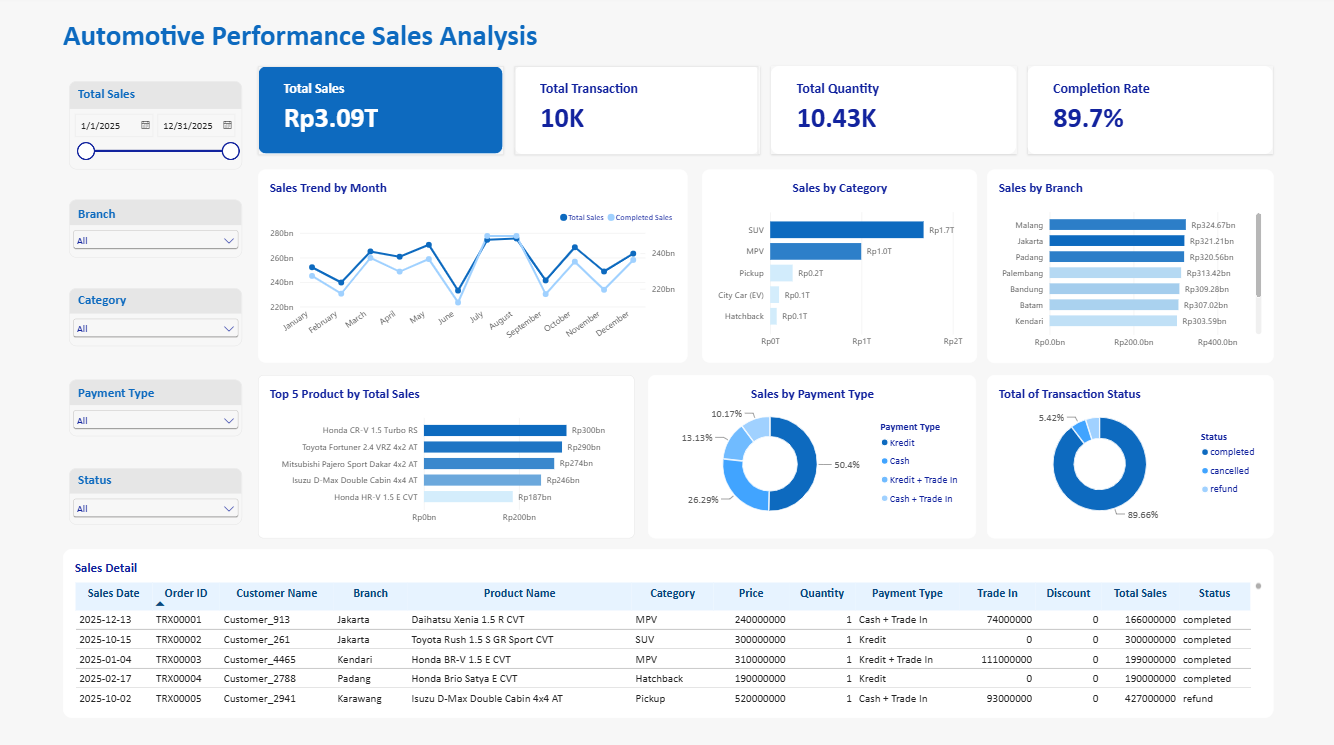

The dashboard page shown, as its layout file describes it:
{"tool":"powerbi","page":{"name":"Page 1","canvas":[1920,1080],"ordinal":0},"visuals":[{"type":"donutChart","title":"Total of Transaction Status","fields":{"Category":["Sheet1.status"],"Y":["CountNonNull(Sheet1.order_id)"]},"box":[1418.2,545.9,410.4,234.2],"z":1000},{"type":"donutChart","title":"Sales by Payment Type","fields":{"Category":["Sheet1.payment_type"],"Y":["Sum(Sheet1.total_sales)"]},"box":[933.1,545.3,470,233.8],"z":2000},{"type":"clusteredBarChart","title":"Top 5 Product by Total Sales","fields":{"Category":["Sheet1.product_name"],"Y":["Sum(Sheet1.total_sales)"]},"box":[374.8,545.3,539.2,233.8],"z":3000},{"type":"lineChart","title":"Sales Trend by Month","fields":{"Category":["Date Table.Date.Variation.Date Hierarchy.Month"],"Y":["Sheet1.Total Sales"],"Y2":["Sheet1.Completed Sales"]},"box":[374.8,251.8,615.6,276.8],"z":4000},{"type":"clusteredBarChart","title":"Sales by Category","fields":{"Category":["Sheet1.category"],"Y":["Sum(Sheet1.total_sales)"]},"box":[1009.4,251.8,393.7,276.8],"z":5000},{"type":"clusteredBarChart","title":"Sales by Branch","fields":{"Category":["Sheet1.branch"],"Y":["Sum(Sheet1.total_sales)"]},"box":[1418.2,251.5,410.4,277.2],"z":6000},{"type":"slicer","title":" ","fields":{"Values":["Sheet1.sales_date"]},"box":[102.6,124.1,248.1,126.5],"z":7000},{"type":"slicer","title":" ","fields":{"Values":["Sheet1.payment_type"]},"box":[102.8,552.5,248.1,81.1],"z":8000},{"type":"slicer","title":" ","fields":{"Values":["Sheet1.category"]},"box":[102.8,421.2,248.1,83.5],"z":9000},{"type":"slicer","title":" ","fields":{"Values":["Sheet1.branch"]},"box":[102.8,294.8,248.1,83.5],"z":10000},{"type":"slicer","title":" ","fields":{"Values":["Sheet1.status"]},"box":[102.8,678.9,248.1,81.1],"z":11000},{"type":"tableEx","title":"Sales Detail","fields":{"Values":["Sheet1.sales_date","Sheet1.order_id","Sheet1.customer_name","Sheet1.branch","Sheet1.product_name","Sheet1.category","Sheet1.price","Sheet1.quantity","Sheet1.payment_type","Sheet1.trade_in","Sheet1.discount","Sheet1.total_sales"]},"box":[95.1,795.4,1734,242],"z":12000},{"type":"group","id":"g1","title":"Group 1","box":[1476.5,102.7,351.7,126.7],"z":13000},{"type":"cardVisual","title":"   Completion Rate","fields":{"Data":["Sheet1.Completion Rate"]},"box":[1476.5,102.7,351.7,126.7],"z":14000,"group":"g1"},{"type":"cardVisual","title":"   Completion Rate","fields":{"Data":["Sheet1.Total Transaction"]},"box":[740.6,103.1,351.7,126.7],"z":14000,"group":"g3"},{"type":"cardVisual","title":"   Completion Rate","fields":{"Data":["Sheet1.Total Quantity"]},"box":[1108.1,103.1,351.7,126.7],"z":14000,"group":"g2"},{"type":"group","id":"g2","title":"Group 1","box":[1108.1,103.1,351.2,127.5],"z":14000},{"type":"cardVisual","title":"   Completion Rate","fields":{"Data":["Sheet1.Total Sales"]},"box":[374.8,103.9,351.7,126.7],"z":14000,"group":"g4"},{"type":"group","id":"g3","title":"Group 1","box":[740.6,103.1,351.2,126.2],"z":15000},{"type":"textbox","title":"Total Sales","box":[117.1,130.1,238.6,28.6],"z":16000},{"type":"group","id":"g4","title":"Group 1","box":[374.8,103.9,353.1,126.5],"z":17000},{"type":"textbox","title":"Completion Rate","box":[1513.2,121.9,237.5,30],"z":17000,"group":"g1"},{"type":"textbox","title":"Total Transaction","box":[777.3,122.3,237.5,30],"z":17000,"group":"g3"},{"type":"textbox","title":"Total Quantity","box":[1144.8,122.3,237.5,30],"z":17000,"group":"g2"},{"type":"textbox","title":"Total Sales","box":[411.5,123.1,237.5,30],"z":17000,"group":"g4"},{"type":"textbox","title":"Payment Type","box":[117.1,559.6,236.2,31],"z":18000},{"type":"textbox","title":"Category","box":[117.1,426,236.2,31],"z":19000},{"type":"textbox","title":"Branch","box":[117.1,301.9,236.2,31],"z":20000},{"type":"textbox","title":"Status","box":[117.1,683.7,236.2,31],"z":21000},{"type":"textbox","title":"Automotive Performance Sales Analysis","box":[95,35,1735,55],"z":22000}]}

Visuals, with their boxes in screenshot pixels (x1, y1, x2, y2), scaled from the page's 1920x1080 canvas onto the 1334x745 screenshot:
"Total of Transaction Status" donutChart: box(985, 377, 1270, 538)
"Sales by Payment Type" donutChart: box(648, 376, 975, 537)
"Top 5 Product by Total Sales" clusteredBarChart: box(260, 376, 635, 537)
"Sales Trend by Month" lineChart: box(260, 174, 688, 365)
"Sales by Category" clusteredBarChart: box(701, 174, 975, 365)
"Sales by Branch" clusteredBarChart: box(985, 173, 1270, 365)
" " slicer: box(71, 86, 244, 173)
" " slicer: box(71, 381, 244, 437)
" " slicer: box(71, 291, 244, 348)
" " slicer: box(71, 203, 244, 261)
" " slicer: box(71, 468, 244, 524)
"Sales Detail" tableEx: box(66, 549, 1271, 716)
"Group 1" group: box(1026, 71, 1270, 158)
"   Completion Rate" cardVisual: box(1026, 71, 1270, 158)
"   Completion Rate" cardVisual: box(515, 71, 759, 159)
"   Completion Rate" cardVisual: box(770, 71, 1014, 159)
"Group 1" group: box(770, 71, 1014, 159)
"   Completion Rate" cardVisual: box(260, 72, 505, 159)
"Group 1" group: box(515, 71, 759, 158)
"Total Sales" textbox: box(81, 90, 247, 109)
"Group 1" group: box(260, 72, 506, 159)
"Completion Rate" textbox: box(1051, 84, 1216, 105)
"Total Transaction" textbox: box(540, 84, 705, 105)
"Total Quantity" textbox: box(795, 84, 960, 105)
"Total Sales" textbox: box(286, 85, 451, 106)
"Payment Type" textbox: box(81, 386, 245, 407)
"Category" textbox: box(81, 294, 245, 315)
"Branch" textbox: box(81, 208, 245, 230)
"Status" textbox: box(81, 472, 245, 493)
"Automotive Performance Sales Analysis" textbox: box(66, 24, 1271, 62)
